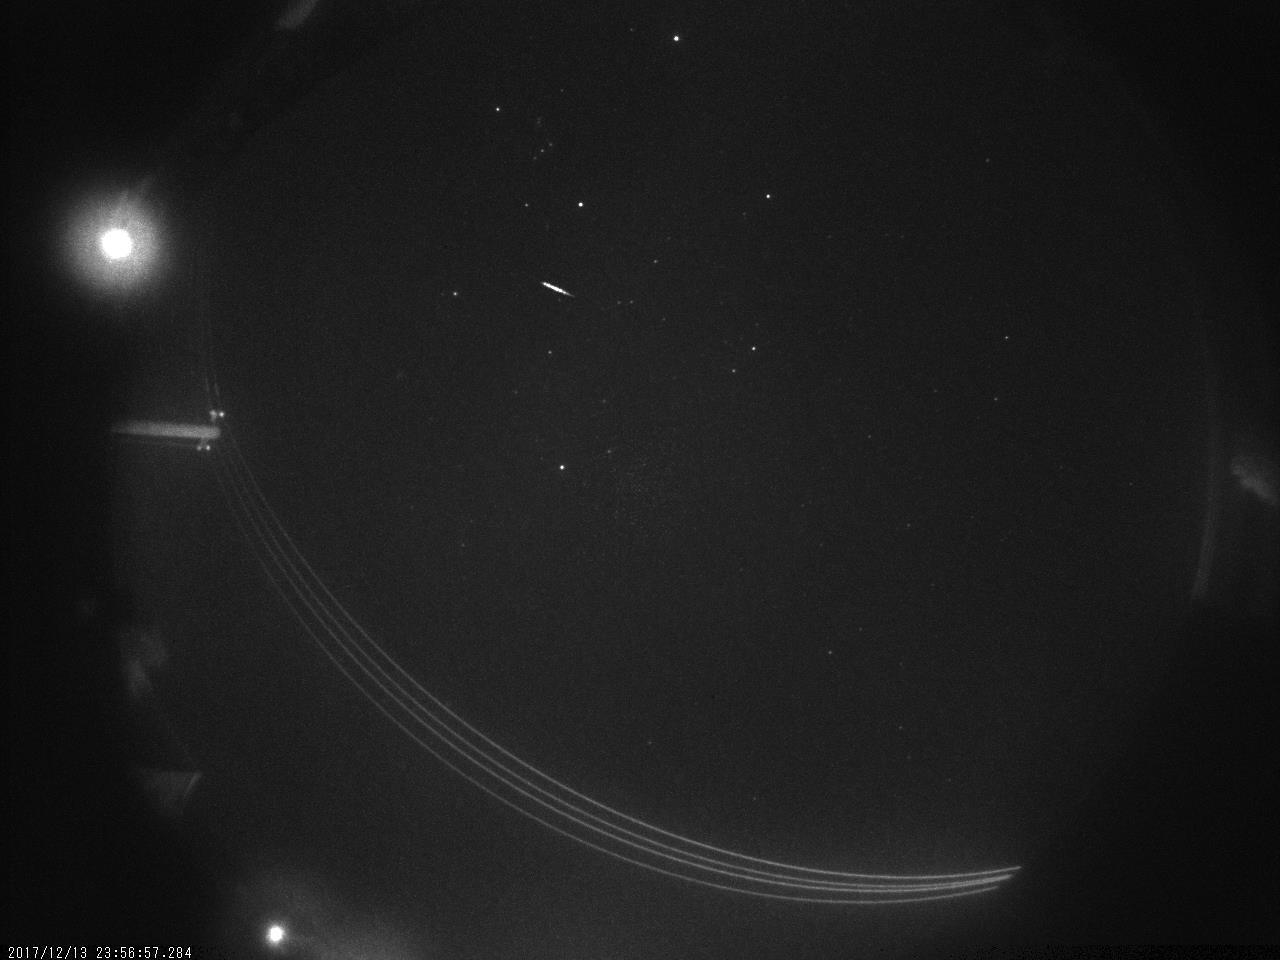Meteor: (540, 278, 574, 296)
